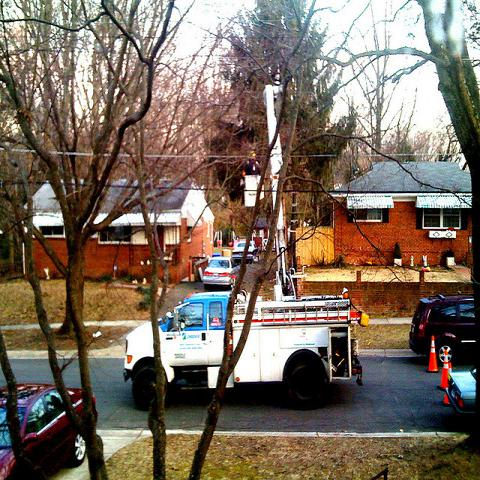car: (1, 375, 99, 477), (409, 293, 477, 368), (446, 364, 477, 416), (202, 256, 239, 292), (231, 240, 260, 264), (230, 266, 240, 278)
truck: (124, 294, 354, 412)
